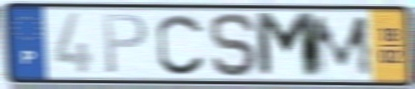4: (51, 11, 96, 77)
C: (155, 12, 208, 78)
M: (252, 10, 325, 81), (309, 13, 377, 78)
P: (101, 12, 150, 77)
S: (208, 11, 262, 79)
